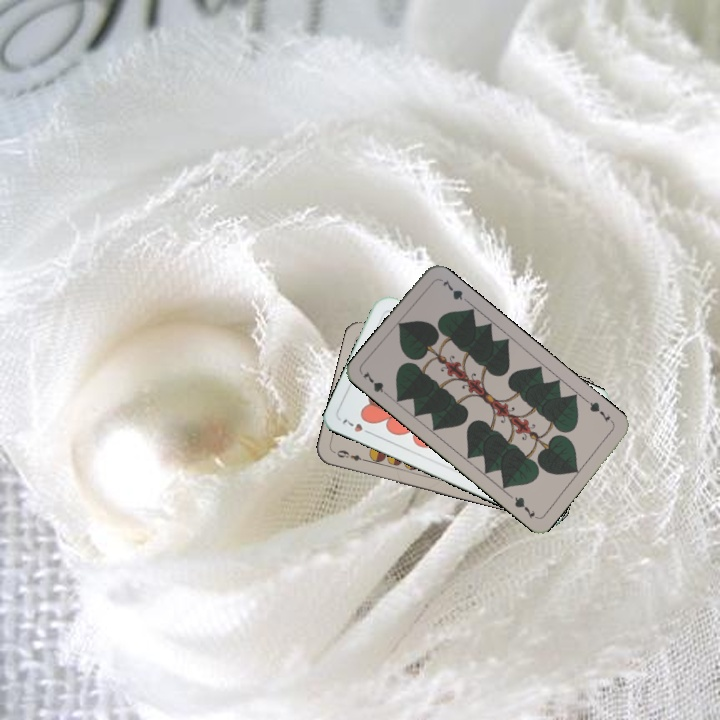E9: (332, 446, 370, 464)
G7: (359, 367, 393, 400), (582, 396, 616, 426)
H7: (338, 415, 376, 438)
